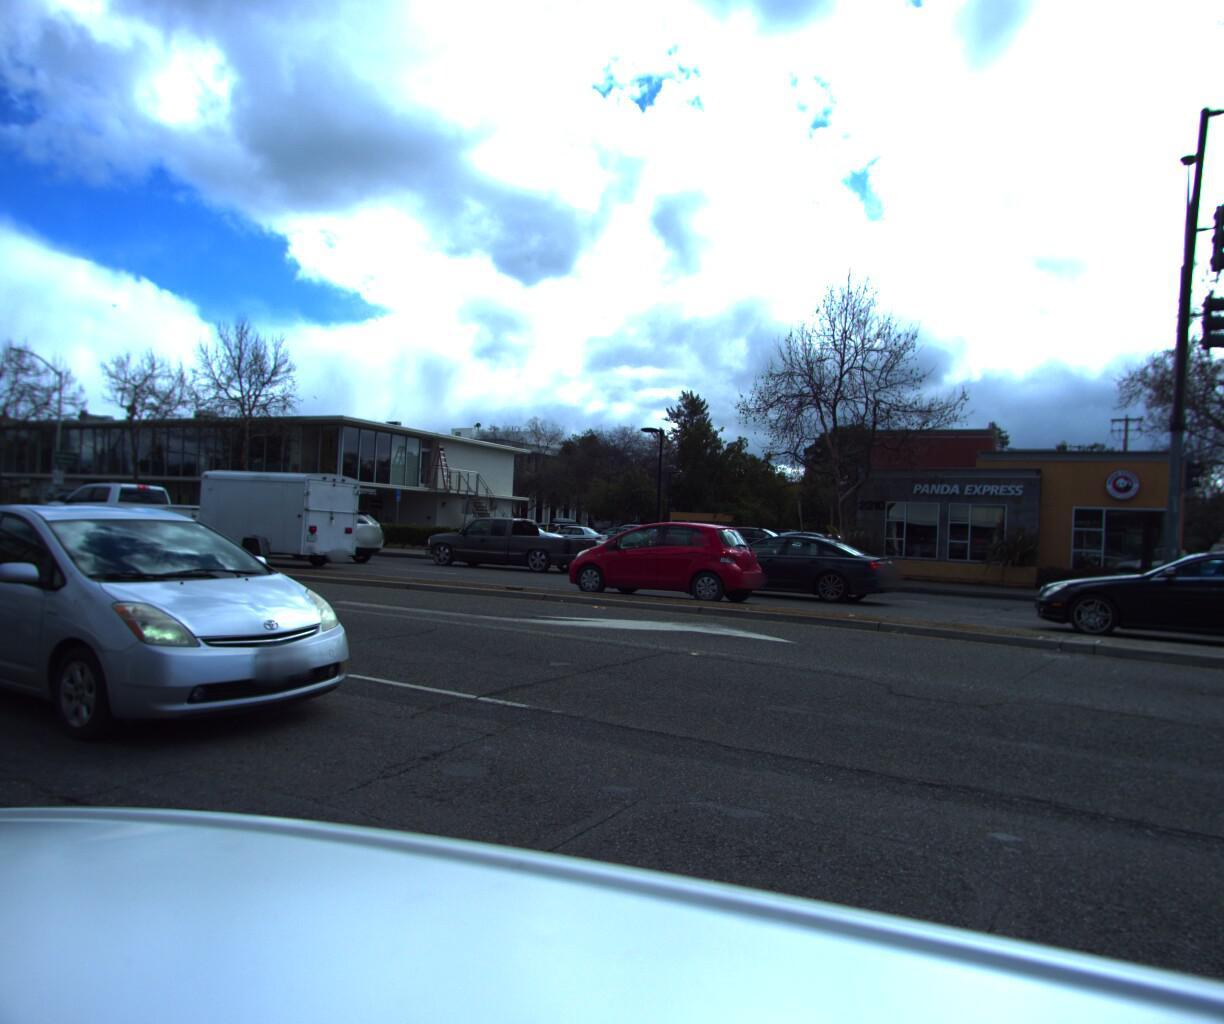car: (0, 490, 397, 777), (1029, 545, 1224, 678), (555, 520, 775, 616), (16, 484, 231, 570), (677, 535, 908, 615), (419, 519, 599, 581), (245, 507, 405, 571), (1145, 536, 1224, 664), (1198, 546, 1224, 587)
other_vehicle: (185, 473, 366, 576)
truck: (0, 469, 83, 547)
